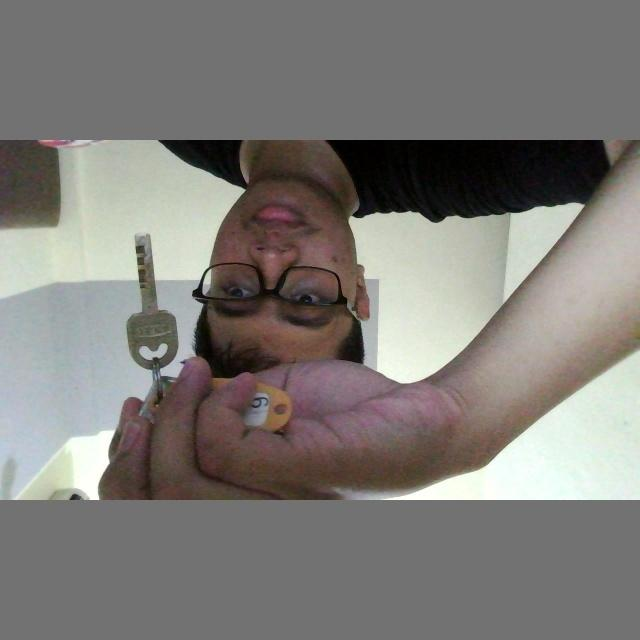Keys: (118, 228, 178, 372)
